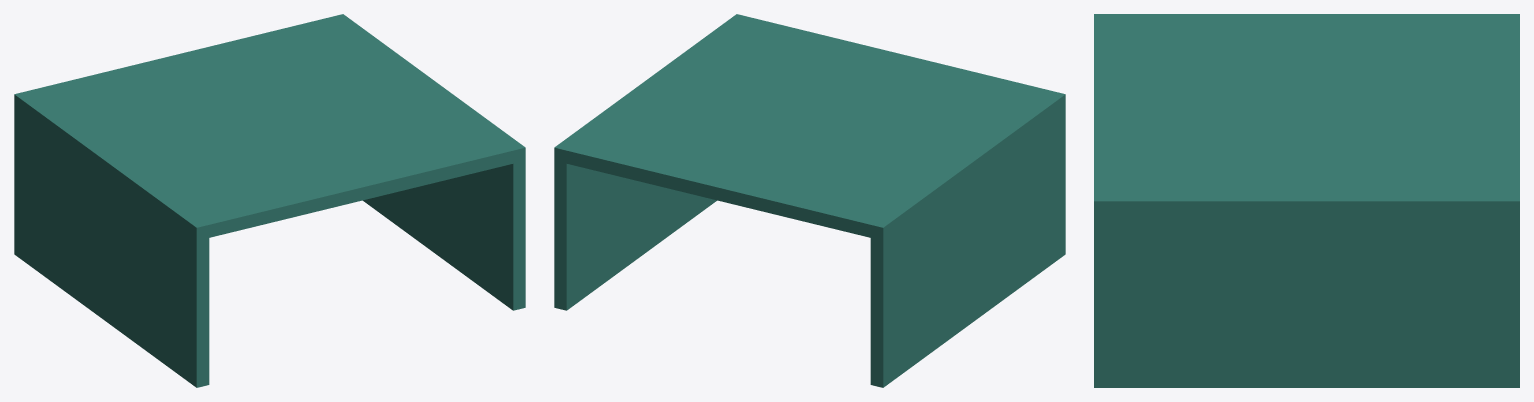
Rendered from MetalPlatform_Collision.fbx.
3 renders of one model, left to right at view 1: azimuth 30°, elevation 25°; view 2: azimuth 150°, elevation 25°; view 3: azimuth 270°, elevation 25°, orthographic. The views are drawn at different scales.
Visible parts, largest first — view 1: MetalPlatform_Collision; view 2: MetalPlatform_Collision; view 3: MetalPlatform_Collision.
Boxes of the visible parts, x1,y1,x2,y2 form: MetalPlatform_Collision: [14, 14, 525, 387]; MetalPlatform_Collision: [554, 14, 1065, 387]; MetalPlatform_Collision: [1094, 14, 1519, 387].
Size of the model in its own units: 2.72 by 1.27 by 2.61.
